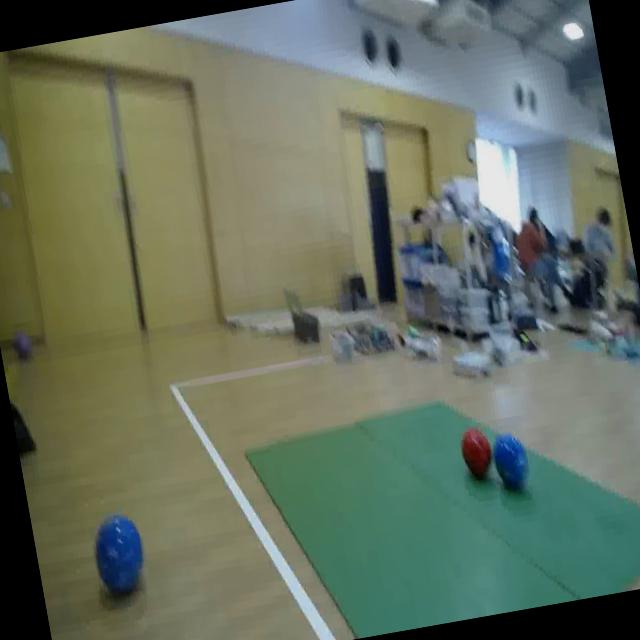blue_ball: (86, 507, 152, 603), (487, 425, 532, 493)
purple_ball: (11, 329, 34, 360)
red_ball: (457, 423, 496, 479)
